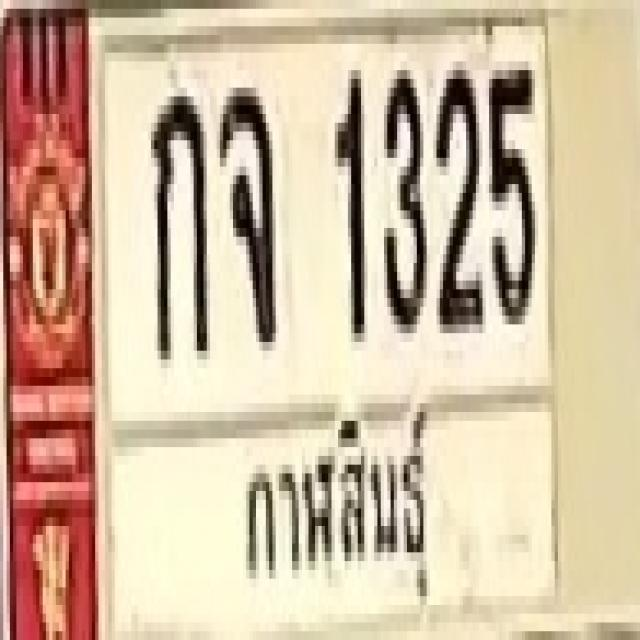1: (332, 61, 366, 348)
2: (433, 62, 483, 330)
3: (381, 61, 426, 333)
5: (486, 61, 536, 328)
A01: (148, 97, 208, 360)
A08: (218, 87, 274, 350)
KSN: (232, 402, 438, 614)
